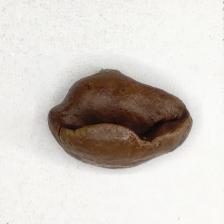NG: (46, 66, 189, 145)
